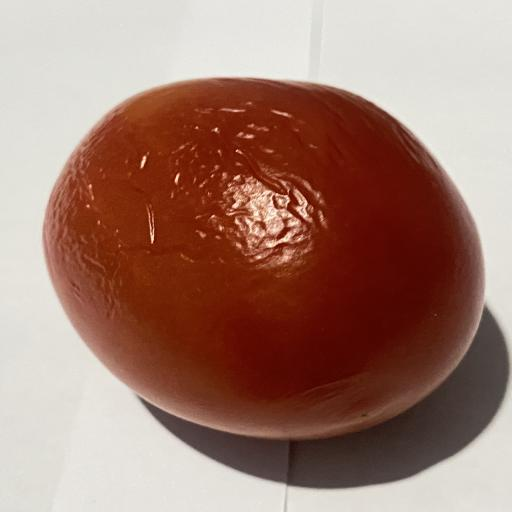spoiled: (43, 77, 484, 439)
